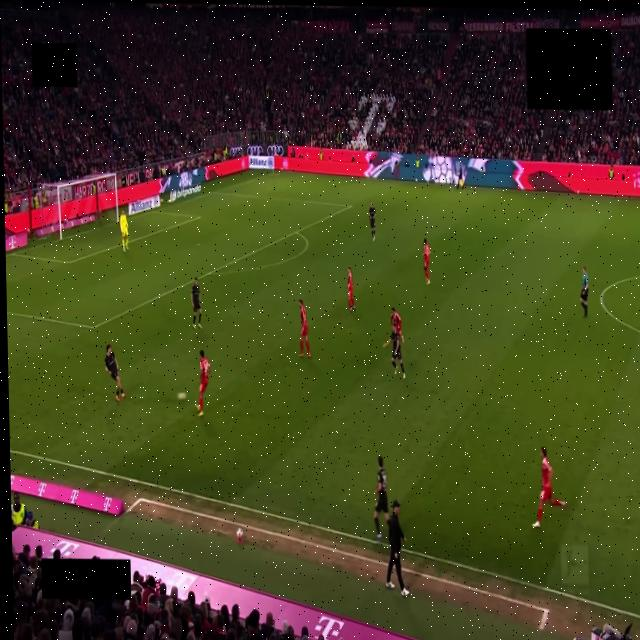ball: (178, 393, 186, 400)
player: (532, 447, 565, 527), (374, 455, 388, 541), (105, 345, 125, 401), (384, 327, 405, 379), (197, 350, 210, 416), (299, 300, 310, 357), (191, 278, 201, 329), (347, 267, 356, 313), (391, 309, 403, 341), (423, 238, 430, 285), (120, 210, 128, 251), (369, 204, 375, 241)
referee: (580, 267, 588, 318)
